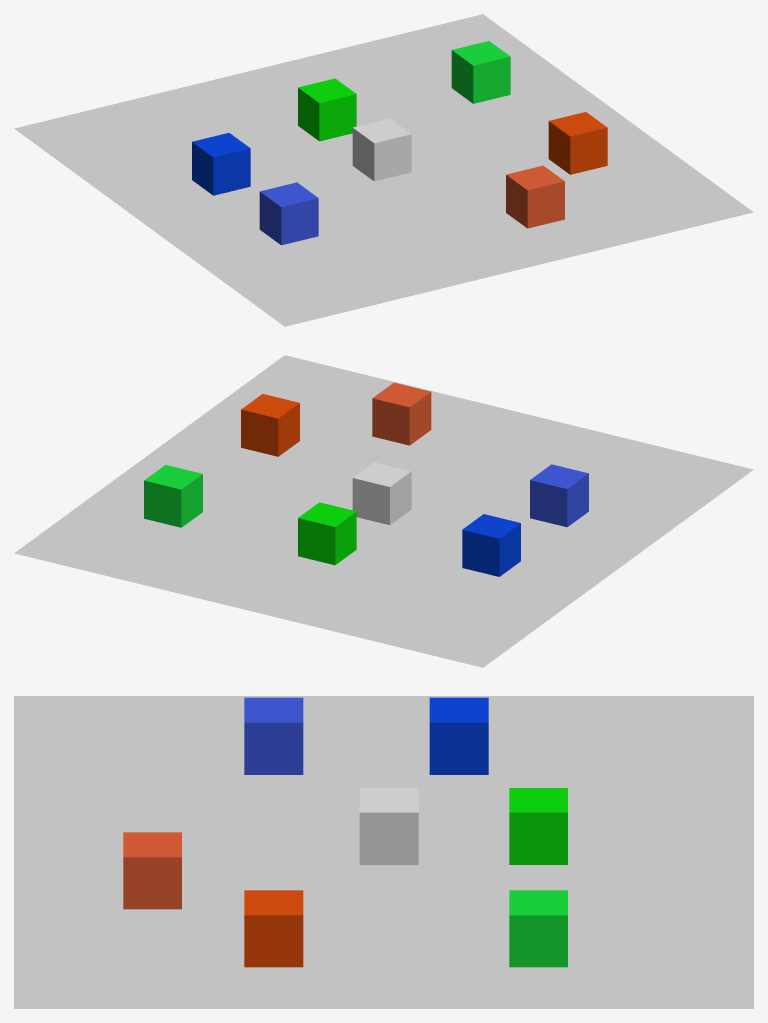
Rendered from main.glb.
3 views of the same model, one above another, from view 1: azimuth 30°, elevation 25°; view 2: azimuth 150°, elevation 25°; view 3: azimuth 270°, elevation 25° (orthographic). The views are drawn at different scales.
Parts seen in each view (by area): view 1: Cube.007, Cube, Cube.002, Cube.003, Cube.004, Cube.005, Cube.006, Cube.001; view 2: Cube.007, Cube.006, Cube, Cube.004, Cube.001, Cube.002, Cube.003, Cube.005; view 3: Cube.007, Cube.003, Cube.004, Cube.005, Cube, Cube.002, Cube.006, Cube.001.
Part boxes in pixels (left/top/right/bottom): Cube.007: left=14, top=14, right=753, bottom=326; Cube: left=352, top=118, right=411, bottom=181; Cube.002: left=451, top=41, right=510, bottom=103; Cube.003: left=548, top=112, right=607, bottom=174; Cube.004: left=259, top=182, right=318, bottom=245; Cube.005: left=192, top=133, right=250, bottom=195; Cube.006: left=506, top=165, right=564, bottom=228; Cube.001: left=298, top=78, right=356, bottom=141; Cube.007: left=14, top=355, right=753, bottom=667; Cube.006: left=372, top=382, right=431, bottom=445; Cube: left=352, top=462, right=411, bottom=525; Cube.004: left=530, top=464, right=588, bottom=527; Cube.001: left=298, top=502, right=356, bottom=565; Cube.002: left=144, top=465, right=202, bottom=527; Cube.003: left=241, top=394, right=299, bottom=456; Cube.005: left=462, top=514, right=520, bottom=576; Cube.007: left=14, top=696, right=753, bottom=1008; Cube.003: left=244, top=890, right=303, bottom=967; Cube.004: left=244, top=697, right=303, bottom=774; Cube.005: left=429, top=697, right=488, bottom=774; Cube: left=359, top=788, right=418, bottom=864; Cube.002: left=509, top=890, right=567, bottom=967; Cube.006: left=123, top=832, right=181, bottom=909; Cube.001: left=509, top=788, right=567, bottom=864.
Bounding box in the file's own units: 11.93 × 0.9489 × 11.93.
